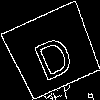D: (27, 26, 77, 82)
